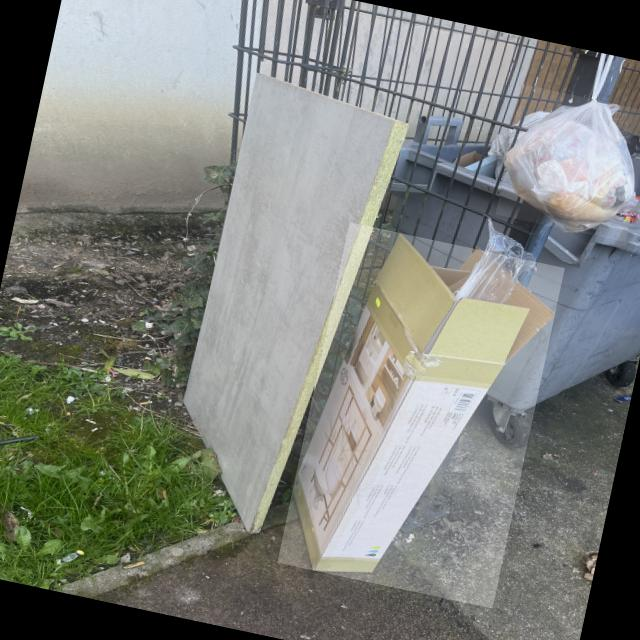Garbage bag: (506, 101, 635, 231)
Other Carton: (292, 236, 554, 573)
